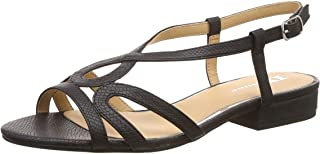shoes: (1, 1, 320, 153)
